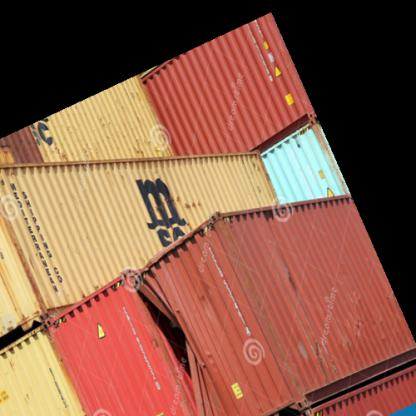Damage: (141, 286, 202, 380)
